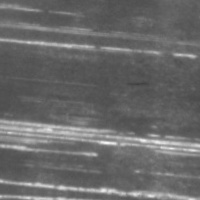scratches: (0, 118, 199, 166), (7, 16, 199, 65), (0, 175, 199, 199)
